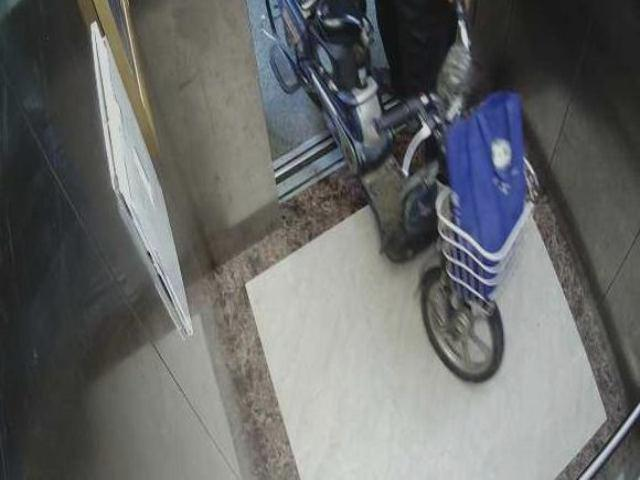emotor: (259, 1, 522, 380)
